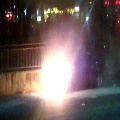fire: (35, 52, 71, 101)
